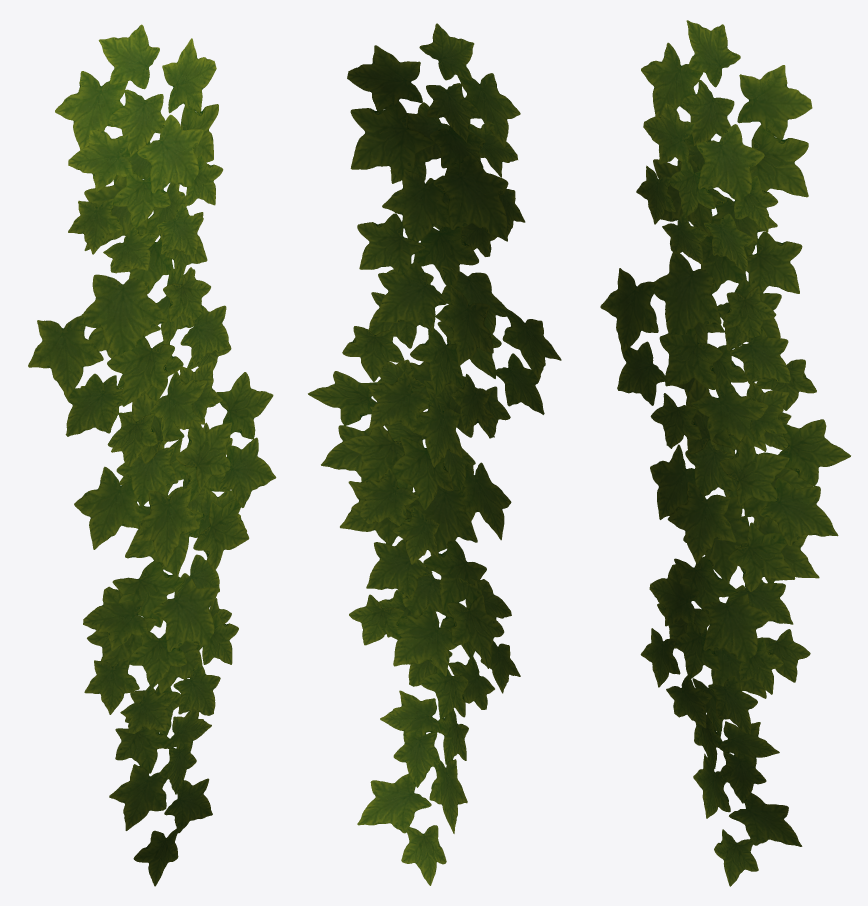
The model's file is MSH_fwOF_Ivy_Narrow_03.fbx.
3 renders of one model, left to right at view 1: azimuth 30°, elevation 25°; view 2: azimuth 150°, elevation 25°; view 3: azimuth 330°, elevation 25°, orthographic.
Parts seen in each view (by area): view 1: MSH_fwOF_Ivy_Narrow_03_LOD0; view 2: MSH_fwOF_Ivy_Narrow_03_LOD0; view 3: MSH_fwOF_Ivy_Narrow_03_LOD0.
Boxes of the visible parts, x1,y1,x2,y2 form: MSH_fwOF_Ivy_Narrow_03_LOD0: (28, 24, 276, 886); MSH_fwOF_Ivy_Narrow_03_LOD0: (308, 23, 561, 885); MSH_fwOF_Ivy_Narrow_03_LOD0: (600, 20, 850, 886).
Size of what is drawn, in the model's own units: 0.482 by 1.58 by 0.1202.
